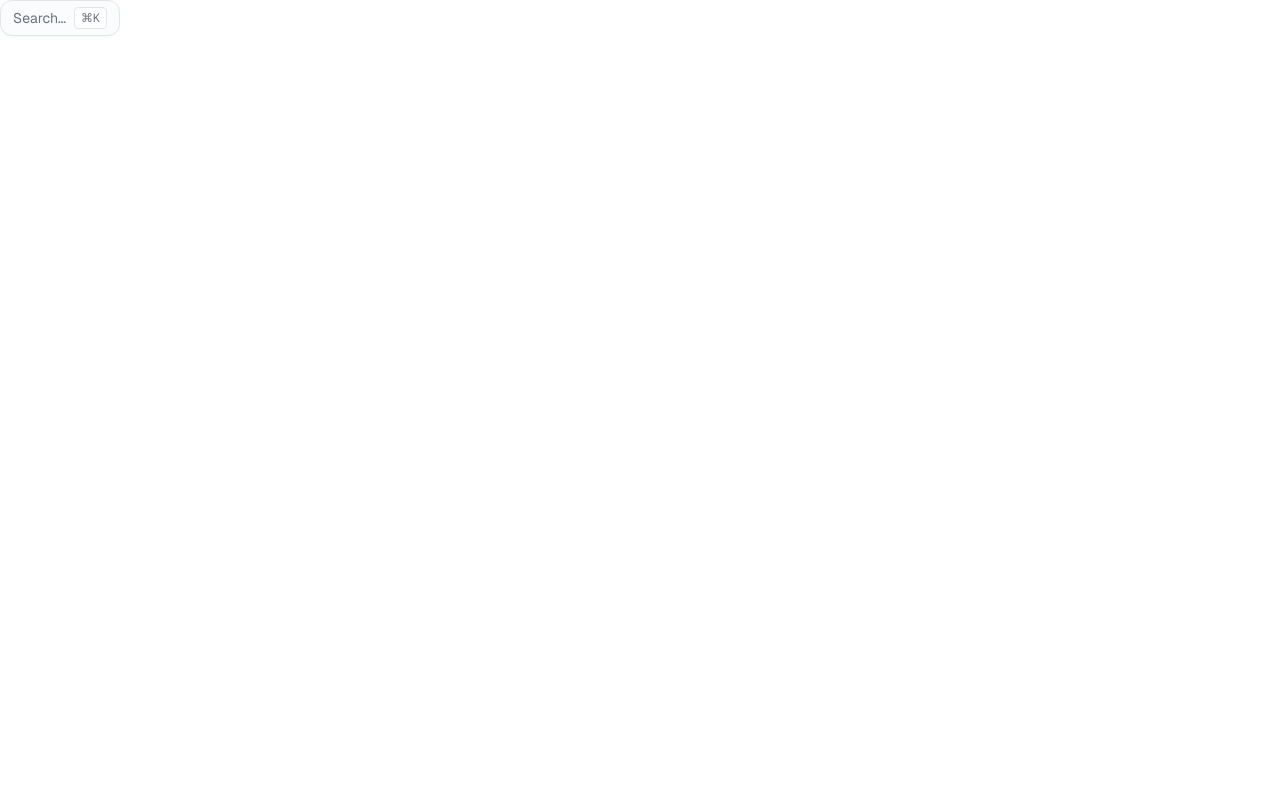
Test: CommandMenu › navigates to a nav link and closes the dialog when selected
Click the button "Search… ⌘K".
click(60, 18)  # box [0,0,120,36]
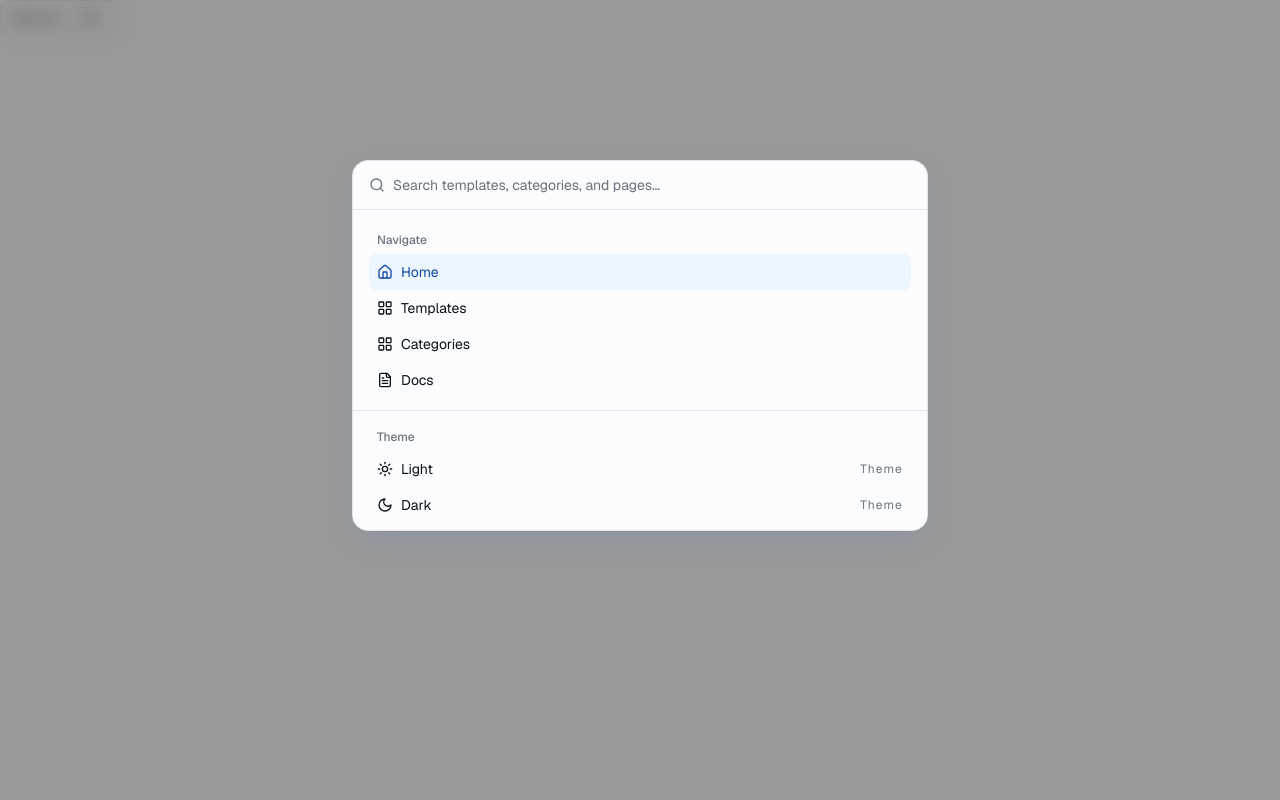
Check: the dialog is shown, box [352,160,928,531]
Click the option "Templates".
click(422, 308)  # box [377,299,467,317]
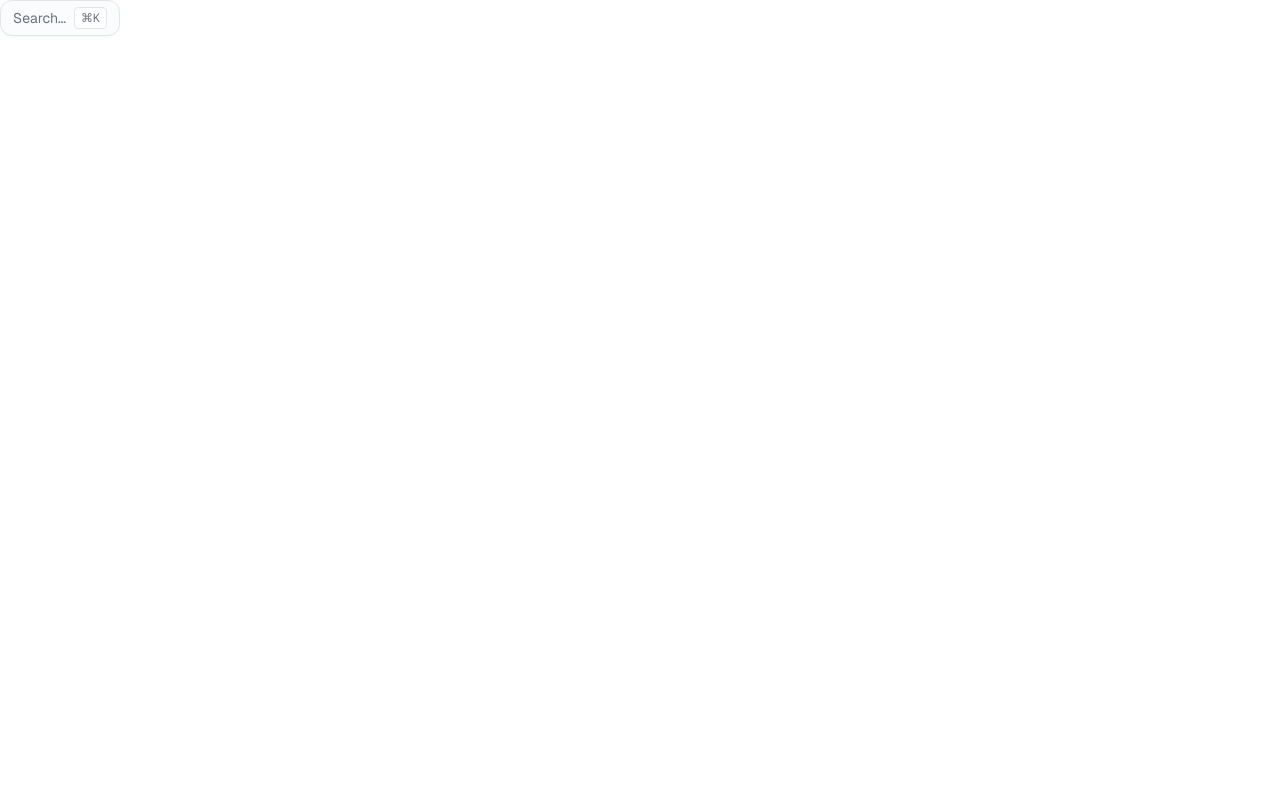
Check: the dialog is gone
